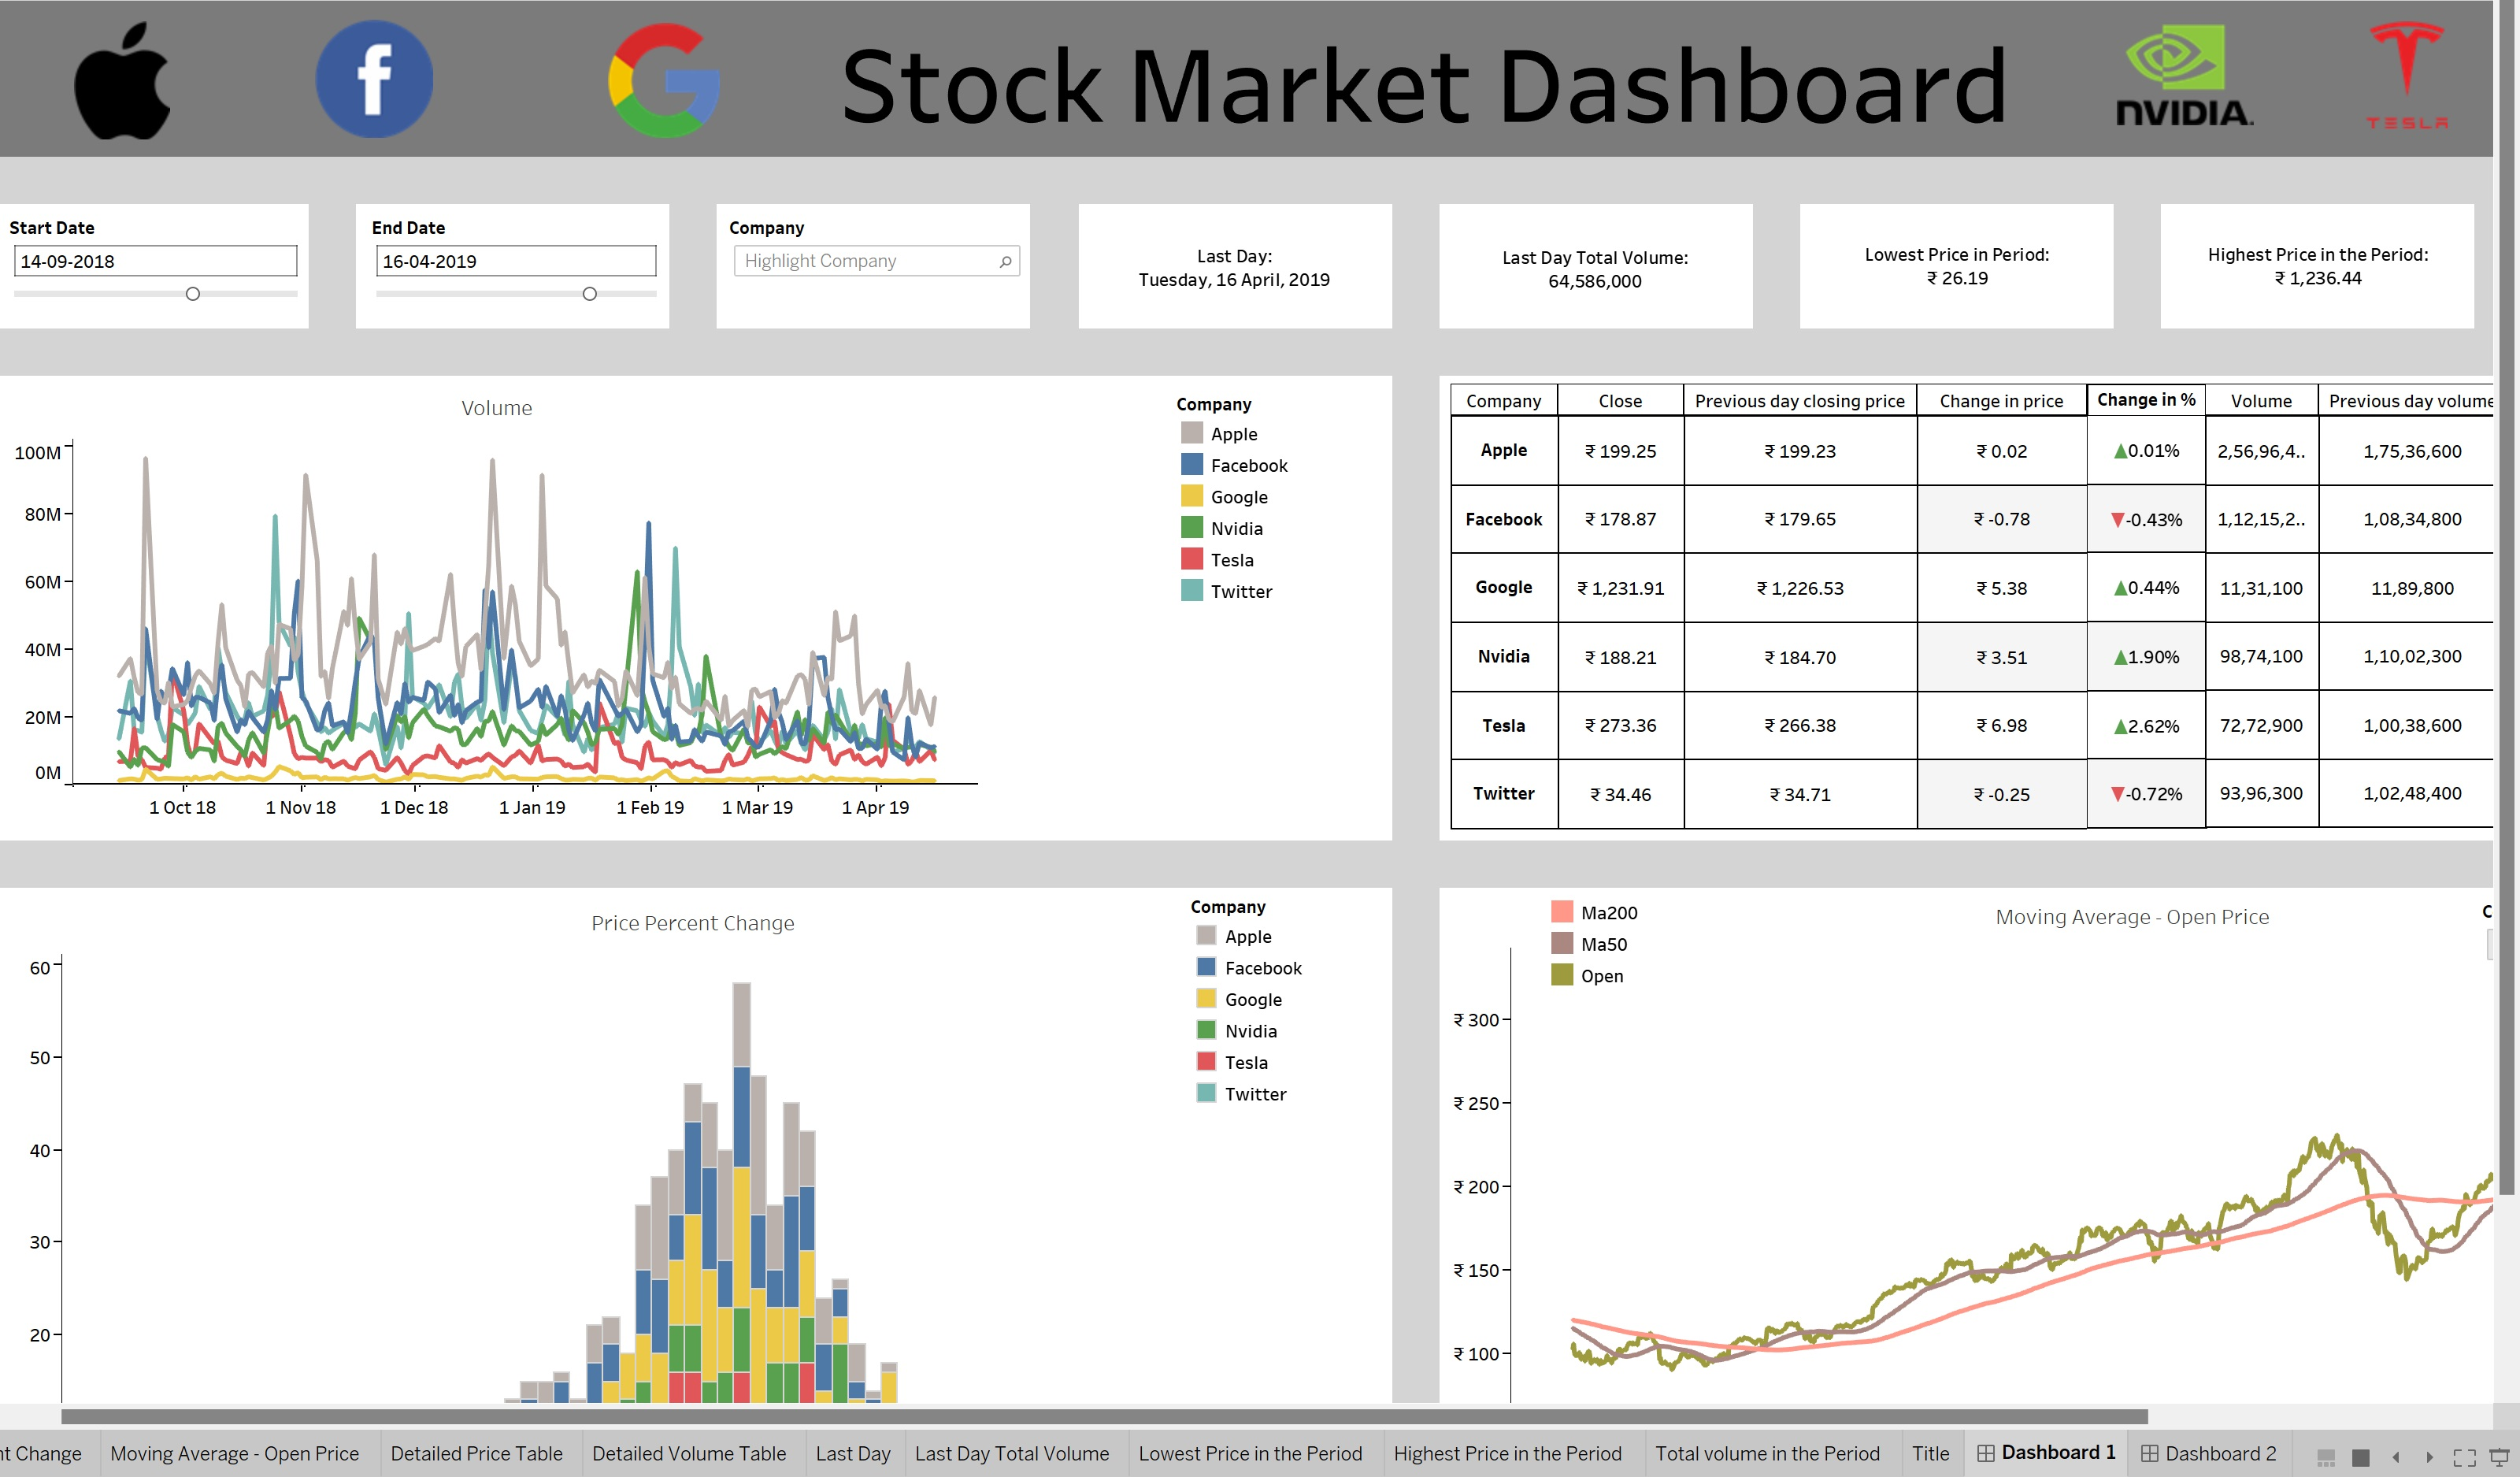

The dashboard page shown, as its layout file describes it:
{"tool":"tableau","page":{"name":"Dashboard 1","canvas":[1850,1050],"ordinal":0},"visuals":[{"type":"blank","box":[8,8,1834,129.2]},{"type":"image","param":"D:/Stock Market/Logos/Facebook logo.png","box":[226,35,84,75]},{"type":"image","param":"D:/Stock Market/Logos/Apple logo.png","box":[73,36,74,75]},{"type":"image","param":"D:/Stock Market/Logos/Tesla logo.png","box":[1528,36,78,68]},{"type":"image","param":"D:/Stock Market/Logos/Twitter logo.png","box":[1673,36,83,73]},{"type":"worksheet","title":"Title","mark":"Automatic","box":[348,37,1165,73]},{"type":"image","param":"D:/Stock Market/Logos/Google logo.png","box":[412,37,76,73]},{"type":"image","param":"D:/Stock Market/Logos/Nvidia logo.png","box":[1370,38,87,73]},{"type":"blank","box":[8,137.2,229.2,108.8]},{"type":"blank","box":[237.2,137.2,229.3,108.8]},{"type":"blank","box":[466.4,137.2,229.3,108.8]},{"type":"blank","box":[695.7,137.2,229.3,108.8]},{"type":"blank","box":[925,137.2,229.3,108.8]},{"type":"blank","box":[1154.2,137.2,229.3,108.8]},{"type":"blank","box":[1383.5,137.2,229.3,108.8]},{"type":"blank","box":[1612.7,137.2,229.3,108.8]},{"type":"worksheet","title":"Lowest Price in the Period","mark":"Automatic","box":[1170,152,197,78]},{"type":"worksheet","title":"Highest Price in the Period","mark":"Automatic","box":[1400,152,196,77]},{"type":"worksheet","title":"Last Day","mark":"Automatic","box":[711,153,198,77]},{"type":"worksheet","title":"Last Day Total Volume","mark":"Automatic","box":[940,154,198,77]},{"type":"worksheet","title":"Total volume in the Period","mark":"Automatic","box":[1628,154,197,78]},{"type":"parameter","param":"[Parameters].[Parameter 1]","box":[32,159.3,186.5,66.3]},{"type":"parameter","param":"[Parameters].[Parameter 2]","box":[262.4,159.3,183.8,67.5]},{"type":"highlighter","title":"Volume","param":"[federated.0q96s7a0mf6ov9152t28s1q3v23t].[none:Table Name:nk]","box":[488.8,159.3,187.8,67.5]},{"type":"blank","box":[8,246,917,325]},{"type":"blank","box":[925,246,917,325]},{"type":"worksheet","title":"Detailed Price Table","mark":"Automatic","rows":["Table Name","Close","Previous day closing price","Change in price"],"box":[947,266.3,480.8,282.9]},{"type":"worksheet","title":"Detailed Volume Table","mark":"Automatic","rows":["Table Name","Volume","Previous day volume","Change in volume"],"box":[1426.5,266.3,391.6,281.6]},{"type":"worksheet","title":"Volume","mark":"Automatic","rows":["Volume"],"cols":["Date"],"box":[34.6,267.6,612.7,281.6]},{"type":"legend","title":"Volume","param":"[federated.0q96s7a0mf6ov9152t28s1q3v23t].[none:Table Name:nk]","box":[772.5,271.4,130.5,179.7]},{"type":"blank","box":[8,571,917,471]},{"type":"blank","box":[925,571,917,471]},{"type":"legend","title":"Moving Average - Open Price","param":"[federated.0q96s7a0mf6ov9152t28s1q3v23t].[:Measure Names]","box":[1008.2,574.7,186.5,100.7]},{"type":"legend","title":"Price Percent Change","param":"[federated.0q96s7a0mf6ov9152t28s1q3v23t].[none:Table Name:nk]","box":[781.8,590,122.5,177.1]},{"type":"worksheet","title":"Moving Average - Open Price","mark":"Automatic","cols":["Date"],"box":[948.3,591.3,864.4,425.6]},{"type":"filter","title":"Moving Average - Open Price","param":"[federated.0q96s7a0mf6ov9152t28s1q3v23t].[none:Table Name:nk]","box":[1602.3,592.5,213.1,57.3]},{"type":"worksheet","title":"Price Percent Change","mark":"Automatic","rows":["Percent change in price"],"cols":["Percent change in price (bin)"],"box":[34.6,595.1,861.7,421.8]}]}

Visuals, with their boxes on the page's 1850x1050 design canvas (x1, y1, x2, y2). These are canvas units, not pixel positions in the 2520x1477 screenshot, which may show the page scaled, cropped or inside an application window:
blank: left=8, top=8, right=1842, bottom=137
image: left=226, top=35, right=310, bottom=110
image: left=73, top=36, right=147, bottom=111
image: left=1528, top=36, right=1606, bottom=104
image: left=1673, top=36, right=1756, bottom=109
"Title" worksheet: left=348, top=37, right=1513, bottom=110
image: left=412, top=37, right=488, bottom=110
image: left=1370, top=38, right=1457, bottom=111
blank: left=8, top=137, right=237, bottom=246
blank: left=237, top=137, right=466, bottom=246
blank: left=466, top=137, right=696, bottom=246
blank: left=696, top=137, right=925, bottom=246
blank: left=925, top=137, right=1154, bottom=246
blank: left=1154, top=137, right=1384, bottom=246
blank: left=1384, top=137, right=1613, bottom=246
blank: left=1613, top=137, right=1842, bottom=246
"Lowest Price in the Period" worksheet: left=1170, top=152, right=1367, bottom=230
"Highest Price in the Period" worksheet: left=1400, top=152, right=1596, bottom=229
"Last Day" worksheet: left=711, top=153, right=909, bottom=230
"Last Day Total Volume" worksheet: left=940, top=154, right=1138, bottom=231
"Total volume in the Period" worksheet: left=1628, top=154, right=1825, bottom=232
parameter: left=32, top=159, right=218, bottom=226
parameter: left=262, top=159, right=446, bottom=227
"Volume" highlighter: left=489, top=159, right=677, bottom=227
blank: left=8, top=246, right=925, bottom=571
blank: left=925, top=246, right=1842, bottom=571
"Detailed Price Table" worksheet: left=947, top=266, right=1428, bottom=549
"Detailed Volume Table" worksheet: left=1426, top=266, right=1818, bottom=548
"Volume" worksheet: left=35, top=268, right=647, bottom=549
"Volume" legend: left=772, top=271, right=903, bottom=451
blank: left=8, top=571, right=925, bottom=1042
blank: left=925, top=571, right=1842, bottom=1042
"Moving Average - Open Price" legend: left=1008, top=575, right=1195, bottom=675
"Price Percent Change" legend: left=782, top=590, right=904, bottom=767
"Moving Average - Open Price" worksheet: left=948, top=591, right=1813, bottom=1017
"Moving Average - Open Price" filter: left=1602, top=592, right=1815, bottom=650
"Price Percent Change" worksheet: left=35, top=595, right=896, bottom=1017
